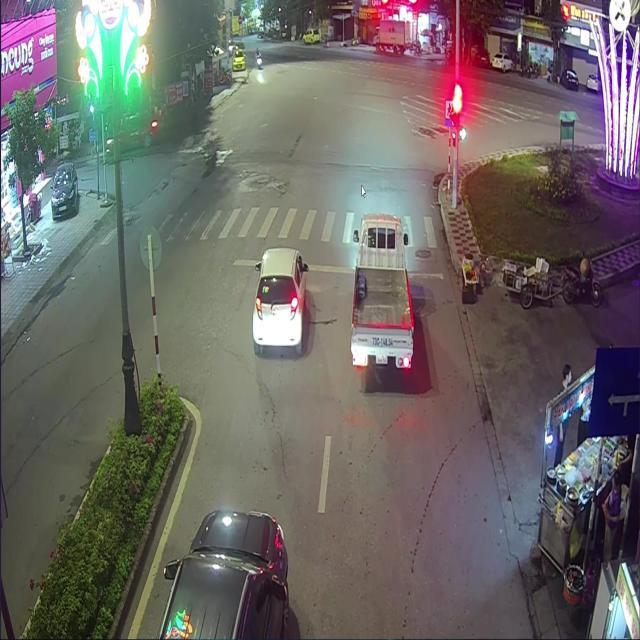car: (157, 509, 290, 638), (350, 213, 413, 368), (251, 246, 304, 354)
red_light: (452, 97, 459, 127)
stop_line: (231, 258, 442, 280)
